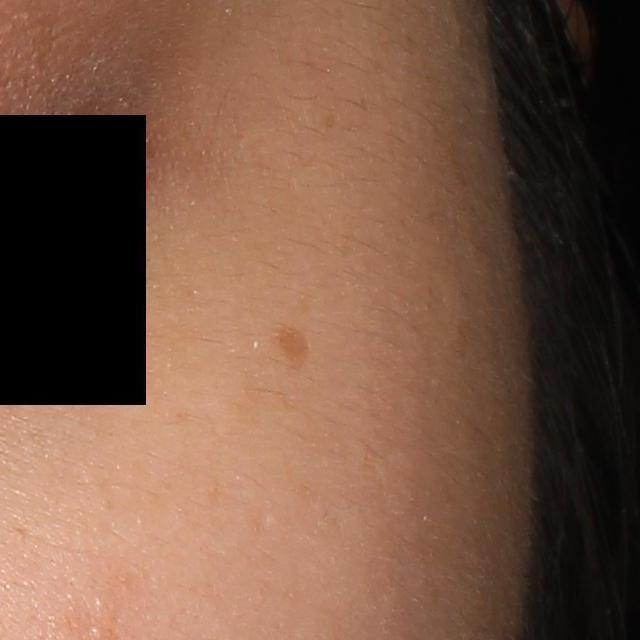comedo: (86, 620, 106, 636)
melasma: (275, 322, 312, 375)
